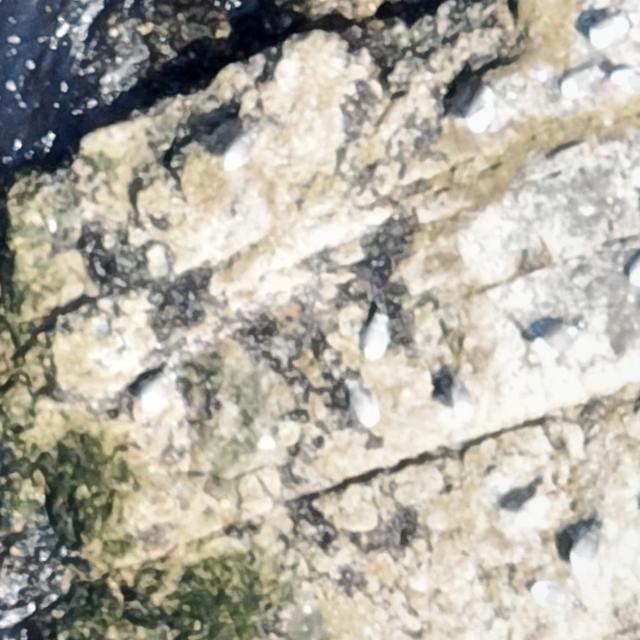umineko: (531, 581, 591, 616), (138, 368, 176, 422), (221, 128, 262, 174), (587, 10, 635, 49), (467, 90, 507, 135), (345, 381, 382, 429), (556, 66, 606, 101), (361, 309, 391, 365), (515, 491, 552, 534), (571, 528, 599, 572), (534, 322, 573, 343)
